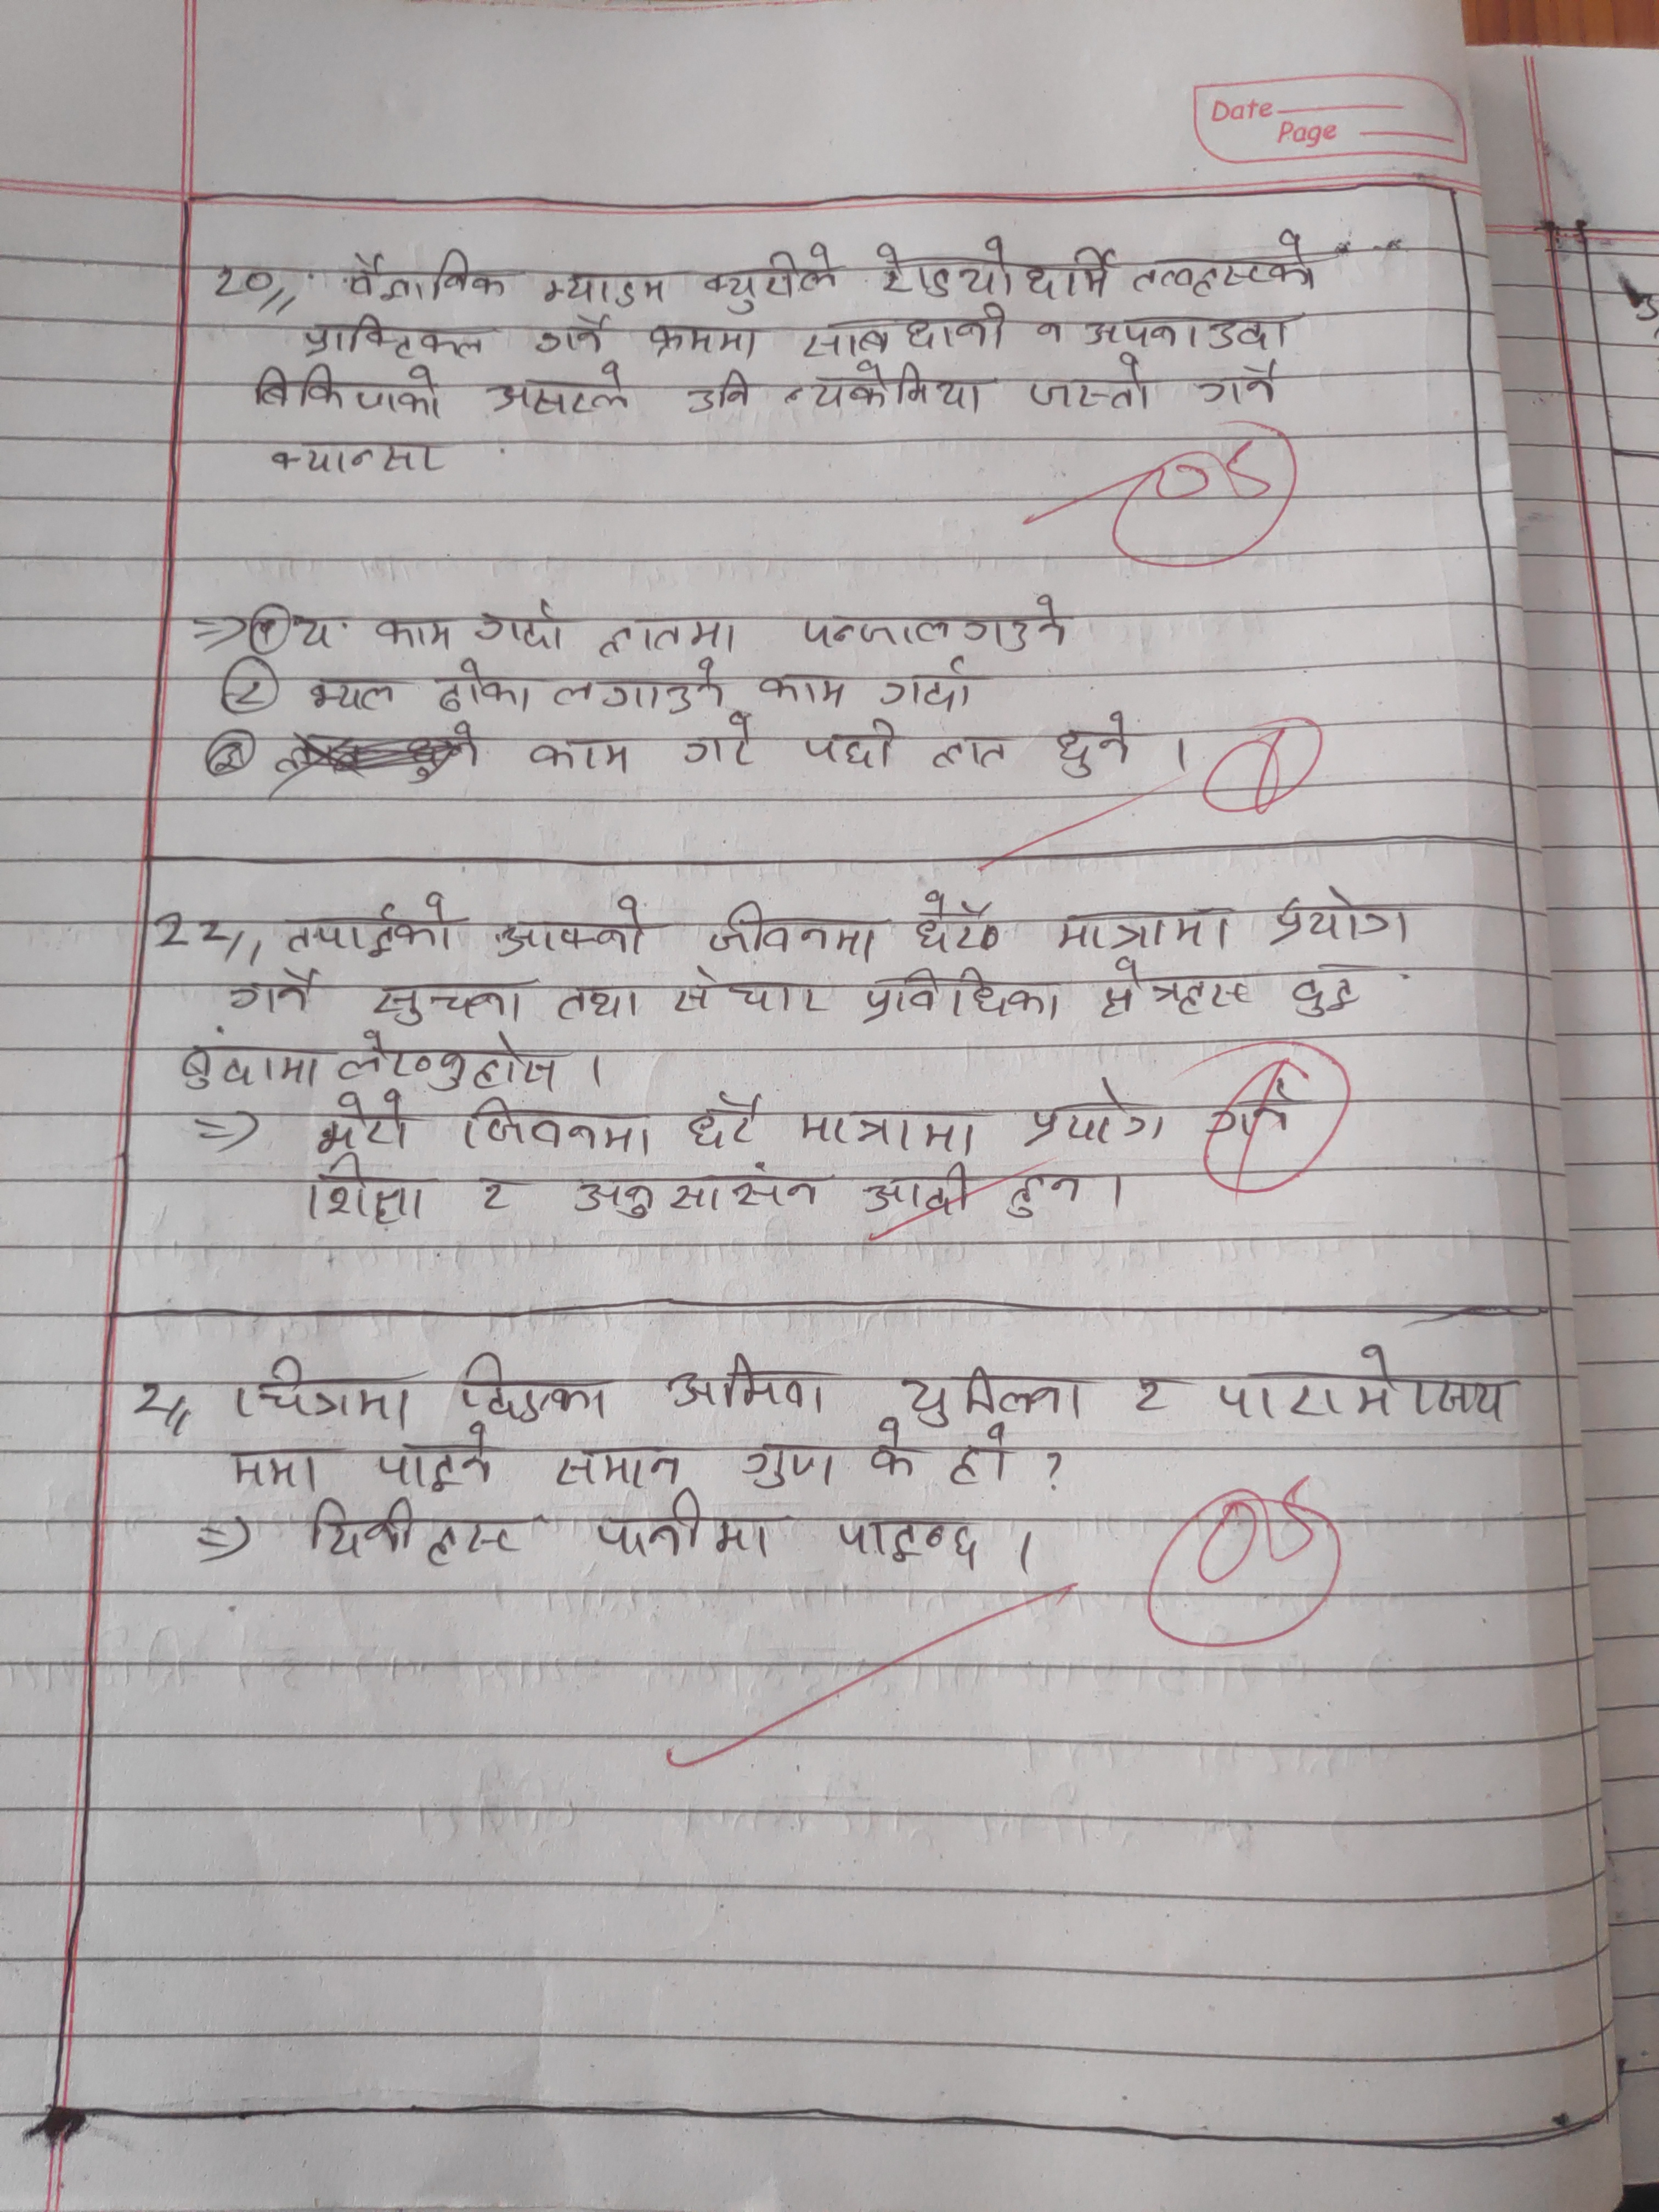text: (1215, 1339, 1520, 1426), (301, 1482, 535, 1569), (552, 1162, 836, 1226), (800, 590, 1080, 655), (871, 237, 1117, 307), (279, 885, 460, 965), (338, 1031, 565, 1094), (795, 296, 1014, 361), (589, 1491, 781, 1564), (1033, 307, 1305, 357), (702, 892, 884, 967), (1126, 230, 1335, 294), (237, 1355, 418, 1428), (242, 359, 451, 421), (859, 965, 1066, 1028), (897, 1362, 1098, 1426), (455, 1097, 657, 1160), (490, 892, 659, 965), (666, 1350, 835, 1423), (782, 359, 995, 416), (549, 653, 735, 716), (460, 1346, 615, 1421), (1093, 951, 1256, 1021), (291, 310, 502, 364), (338, 244, 514, 308), (1016, 1073, 1169, 1146), (701, 237, 840, 317), (265, 427, 450, 484), (371, 1416, 498, 1498), (831, 1512, 990, 1575), (298, 1158, 436, 1230), (1040, 902, 1241, 951), (483, 359, 641, 420), (798, 1108, 985, 1158), (174, 1036, 335, 1092), (1028, 352, 1159, 418), (1270, 888, 1424, 944), (669, 968, 823, 1024), (596, 606, 751, 660), (535, 256, 678, 314), (1049, 704, 1143, 791), (369, 977, 528, 1028), (859, 1158, 983, 1223), (427, 658, 542, 719), (1213, 1068, 1302, 1146), (474, 592, 573, 658), (547, 1440, 687, 1487), (213, 1437, 329, 1493), (216, 961, 329, 1017), (798, 711, 903, 770), (315, 1092, 418, 1151), (913, 890, 1007, 954), (875, 658, 985, 712), (734, 1439, 840, 1494), (1197, 354, 1297, 413), (683, 1087, 770, 1151), (518, 730, 634, 775), (1295, 954, 1366, 1028), (945, 1421, 1019, 1489), (645, 320, 770, 361), (1002, 1165, 1089, 1223), (305, 672, 416, 716), (368, 606, 460, 658), (674, 718, 758, 775), (551, 979, 650, 1026), (678, 368, 760, 421), (758, 665, 849, 712), (519, 319, 622, 357), (866, 1418, 920, 1480), (929, 733, 1019, 770), (1131, 1360, 1176, 1421), (471, 1172, 519, 1224), (295, 611, 342, 651)
